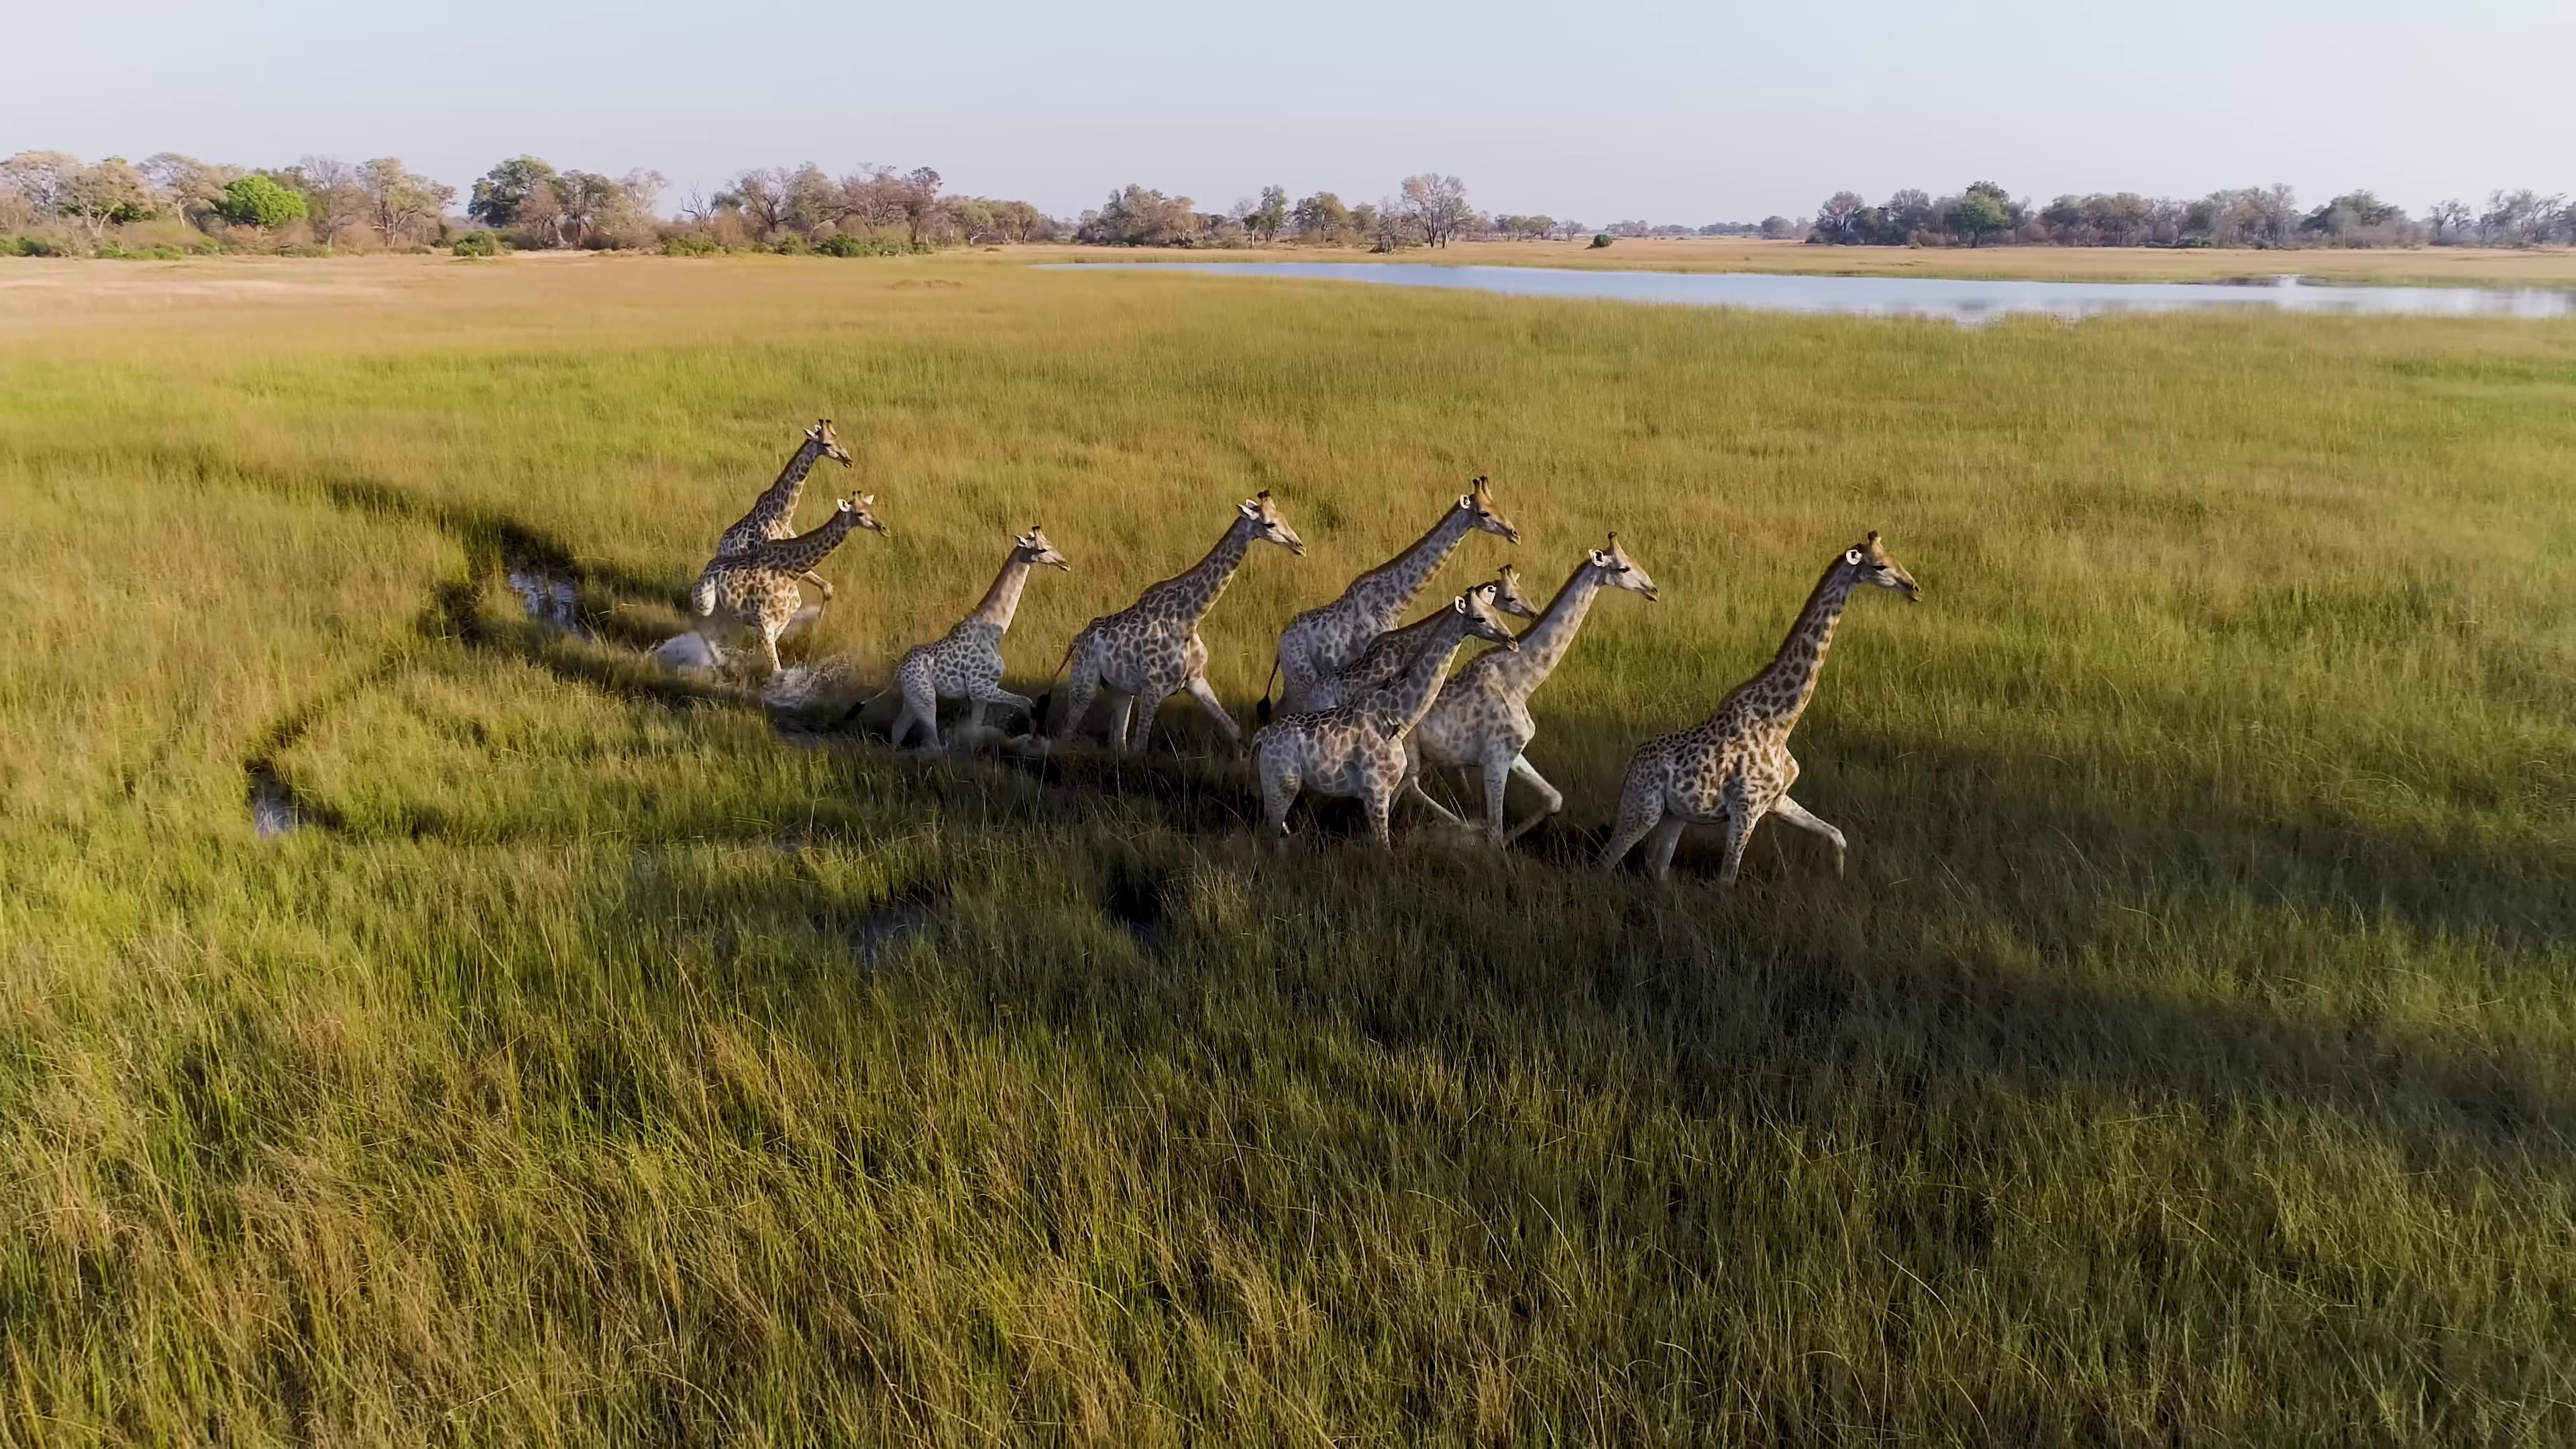giraffe: (1592, 524, 1932, 904), (1366, 524, 1684, 867), (1051, 472, 1316, 784), (1238, 568, 1529, 851), (1258, 467, 1527, 770), (867, 513, 1079, 759), (662, 479, 893, 697), (688, 409, 863, 674)
